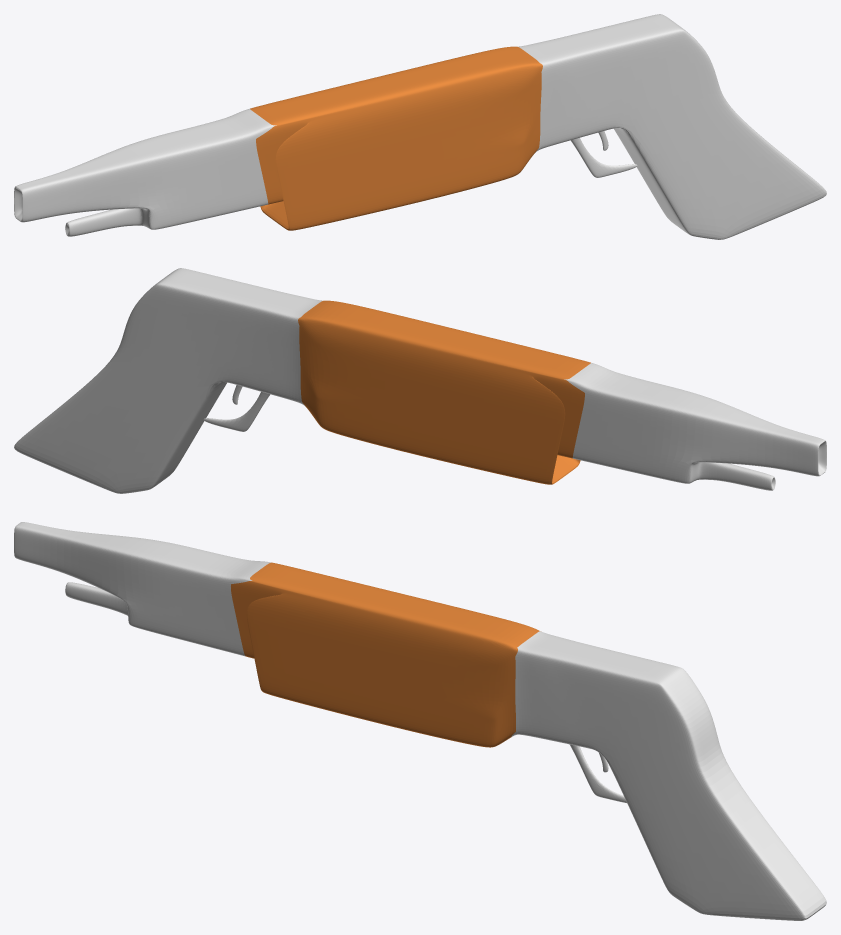
File: shotgun.fbx
The picture shows the model from 3 angles, top to bottom: view 1: azimuth 30°, elevation 25°; view 2: azimuth 150°, elevation 25°; view 3: azimuth 330°, elevation 25°; orthographic projection.
Visible parts, largest first — view 1: Cube; view 2: Cube; view 3: Cube.
Part boxes in pixels (box(x1,y1,x2,y2)): Cube: box(14, 14, 826, 239); Cube: box(14, 268, 826, 493); Cube: box(14, 522, 826, 920).
Size of the model in its own units: 2020 by 549 by 129.
